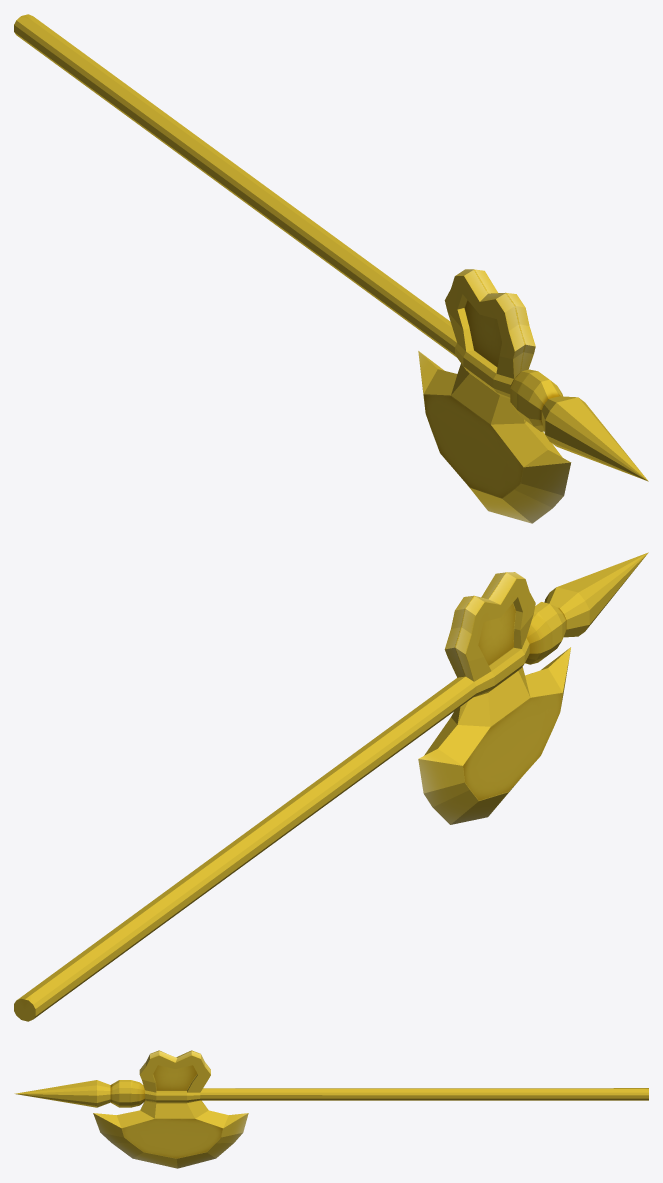
File: weapon.fbx
3 renders of one model, top to bottom at view 1: azimuth 30°, elevation 25°; view 2: azimuth 150°, elevation 25°; view 3: azimuth 270°, elevation 25°, orthographic. The views are drawn at different scales.
Visible parts, largest first — view 1: weapon; view 2: weapon; view 3: weapon.
Boxes of the visible parts, x1,y1,x2,y2 form: weapon: [14, 14, 648, 523]; weapon: [14, 552, 648, 1021]; weapon: [14, 1050, 648, 1168].
Size of the model in its own units: 0.136 by 0.6773 by 3.31.
Materials: 1 (1 with a texture image).
